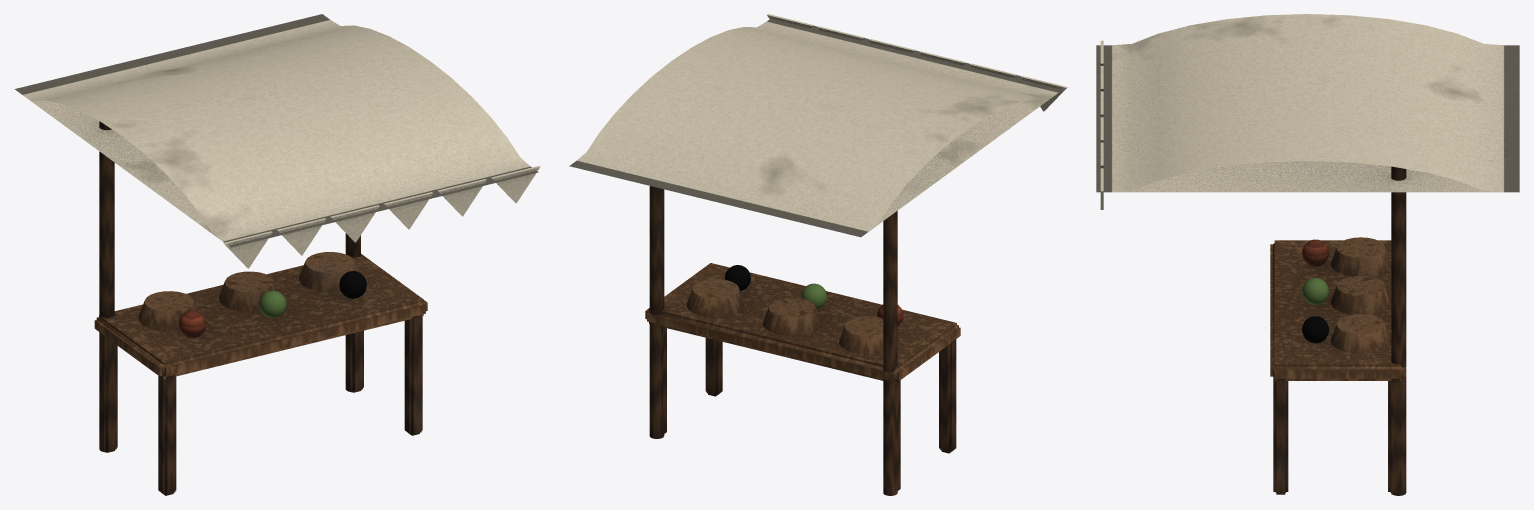
File: cenario_banca_mercado.glb
The picture shows the model from 3 angles, left to right: view 1: azimuth 30°, elevation 25°; view 2: azimuth 150°, elevation 25°; view 3: azimuth 270°, elevation 25°; orthographic projection. The views are drawn at different scales.
Parts seen in each view (by area): view 1: cenario_banca_mercado; view 2: cenario_banca_mercado; view 3: cenario_banca_mercado.
Boxes of the visible parts, x1,y1,x2,y2 form: cenario_banca_mercado: (14, 14, 540, 495); cenario_banca_mercado: (569, 14, 1067, 495); cenario_banca_mercado: (1096, 14, 1519, 495).
Size of the model in its own units: 2.36 by 2.53 by 2.8.
2 materials, 1 textured.
